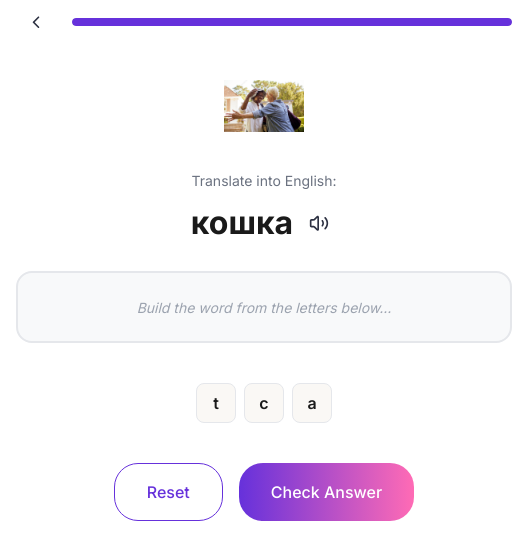
WordBuilderPage › Reset clears the answer plate back to placeholder
This screenshot has width=529, height=542.
expect the button "Check Answer" is shown: met, box top-left (239, 463), bottom-right (414, 521)
Click the button "t" at (216, 403), box top-left (196, 383), bottom-right (236, 423)
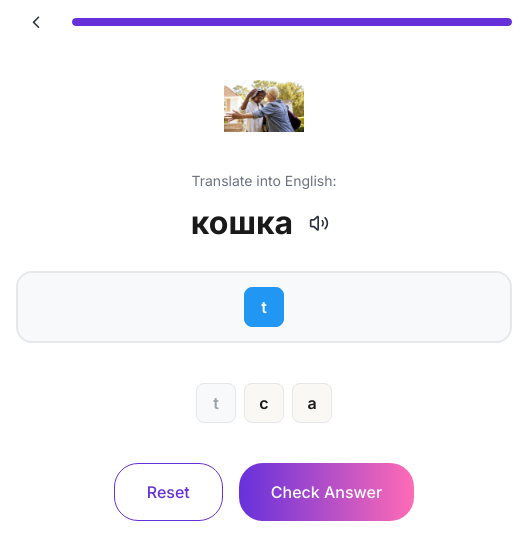
Click the button "Reset" at (168, 492), box top-left (114, 463), bottom-right (223, 521)
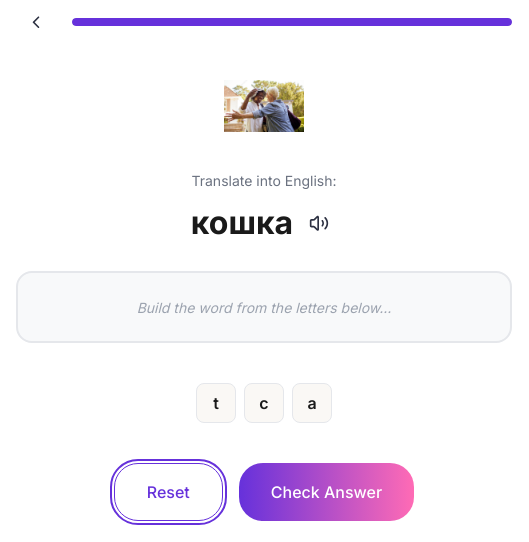
expect the text "Build the word from the letters below..." is shown: met, box top-left (137, 296), bottom-right (391, 318)
